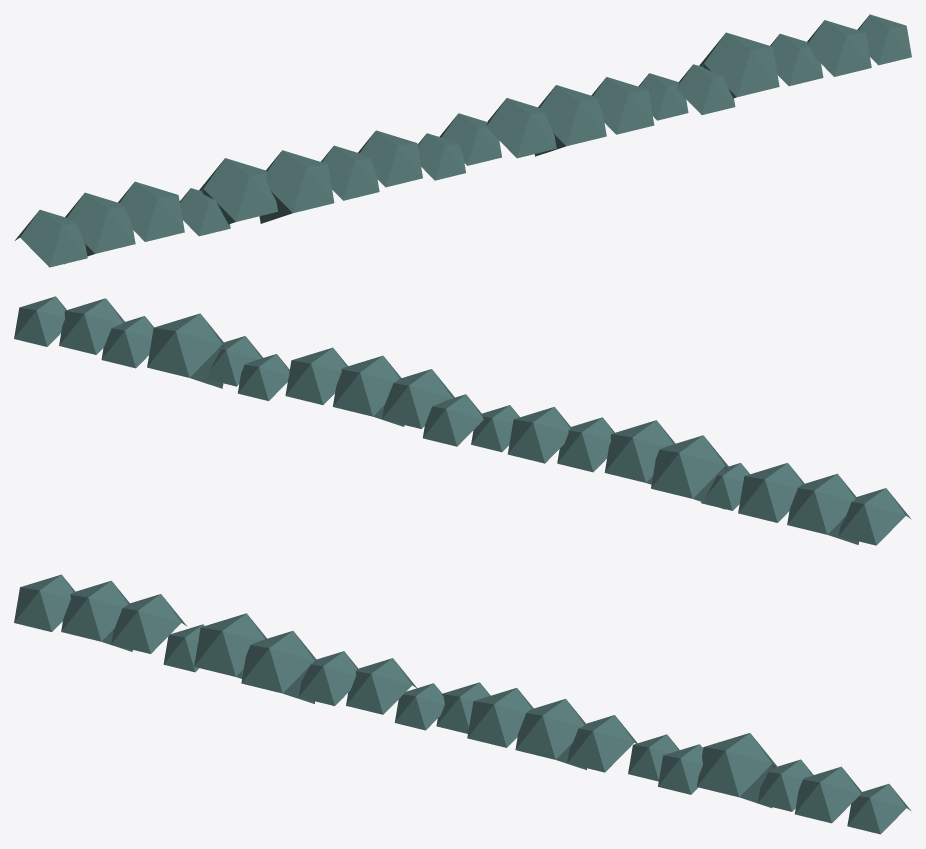
The model's file is hedge.glb.
3 views of the same model, one above another, from view 1: azimuth 30°, elevation 25°; view 2: azimuth 150°, elevation 25°; view 3: azimuth 330°, elevation 25° (orthographic).
Parts seen in each view (by area): view 1: H0; view 2: H0; view 3: H0.
Part boxes in pixels (<box>): H0: <box>15,14,911,267</box>; H0: <box>14,296,911,545</box>; H0: <box>14,574,911,834</box>.
Bounding box in the file's own units: 16.42 × 1.04 × 1.49.
